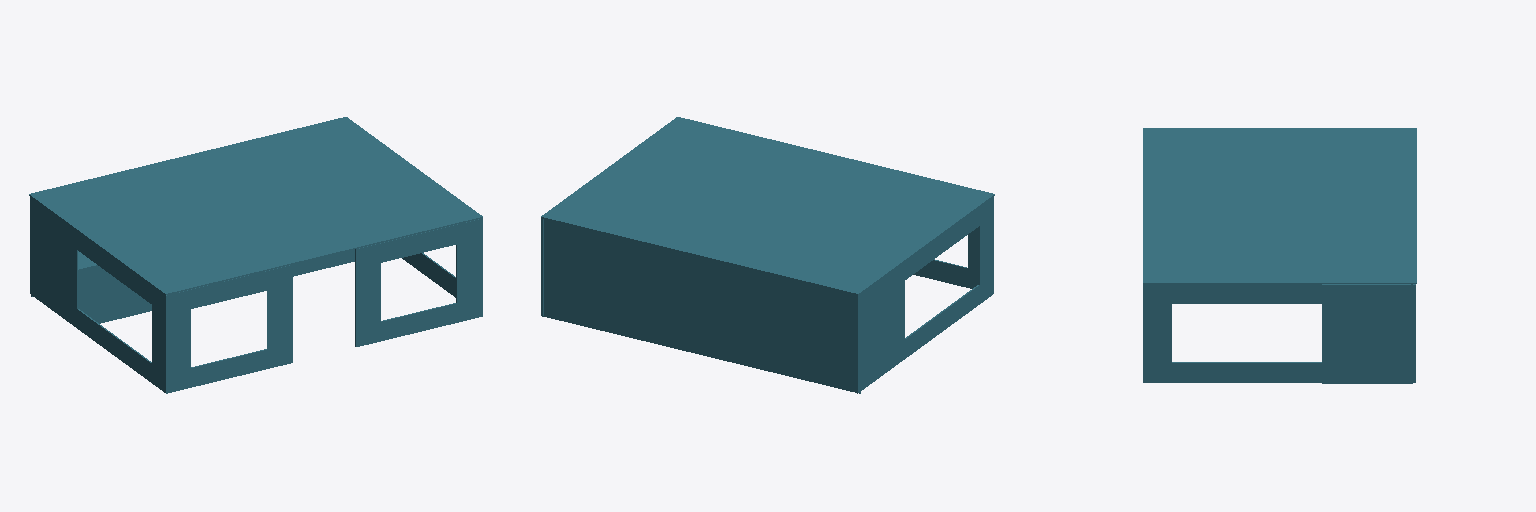
The model's file is dinding.obj.
3 renders of one model, left to right at view 1: azimuth 30°, elevation 25°; view 2: azimuth 150°, elevation 25°; view 3: azimuth 270°, elevation 25°, orthographic.
Visible parts, largest first — view 1: Cube.089_Cube.090, Cube.004_Cube.093, Cube_Cube.092, Cube.084_Cube.085, Cube.081_Cube.082, Cube.008_Cube.080, Cube.087_Cube.088, Cube.086_Cube.087, Cube.005_Cube.094, Cube.080_Cube.081, Cube.088_Cube.089, Cube.085_Cube.086 (+3 smaller); view 2: Cube.089_Cube.090, Cube.002_Cube.094, Cube.004_Cube.093, Cube.080_Cube.081, Cube.005_Cube.094, Cube.082_Cube.083, Cube.003_Cube.092; view 3: Cube.089_Cube.090, Cube.001_Cube.093, Cube.002_Cube.091, Cube.083_Cube.084, Cube.090_Cube.091.
Boxes of the visible parts, box(x1,y1,x2,y2) form: Cube.089_Cube.090: box(29, 117, 482, 295); Cube.004_Cube.093: box(30, 197, 77, 327); Cube_Cube.092: box(78, 250, 354, 323); Cube.084_Cube.085: box(356, 219, 481, 268); Cube.081_Cube.082: box(167, 265, 292, 314); Cube.008_Cube.080: box(167, 343, 292, 393); Cube.087_Cube.088: box(355, 249, 380, 346); Cube.086_Cube.087: box(456, 219, 481, 322); Cube.005_Cube.094: box(77, 309, 165, 392); Cube.080_Cube.081: box(77, 231, 166, 314); Cube.088_Cube.089: box(267, 285, 292, 360); Cube.085_Cube.086: box(166, 291, 190, 393); Cube.089_Cube.090: box(541, 117, 994, 295); Cube.002_Cube.094: box(543, 219, 860, 393); Cube.004_Cube.093: box(856, 262, 904, 393); Cube.080_Cube.081: box(905, 197, 993, 279); Cube.005_Cube.094: box(905, 277, 993, 358); Cube.082_Cube.083: box(978, 216, 993, 303); Cube.003_Cube.092: box(913, 260, 977, 288); Cube.089_Cube.090: box(1143, 128, 1416, 283); Cube.001_Cube.093: box(1322, 284, 1415, 382); Cube.002_Cube.091: box(1143, 362, 1321, 382); Cube.083_Cube.084: box(1143, 284, 1321, 303); Cube.090_Cube.091: box(1143, 285, 1171, 382).
Size of the model in its own units: 67.82 by 20.66 by 50.58.